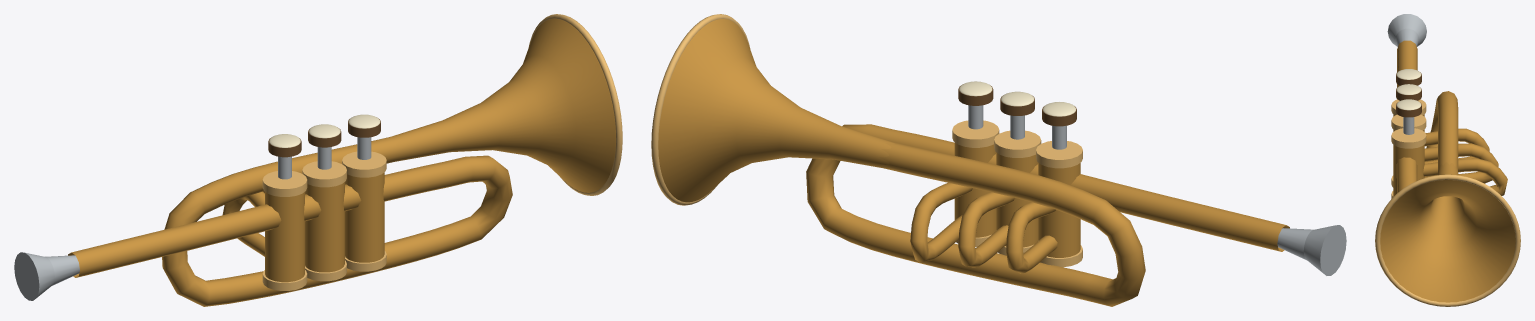
File: trumpet.glb
The picture shows the model from 3 angles, left to right: view 1: azimuth 30°, elevation 25°; view 2: azimuth 150°, elevation 25°; view 3: azimuth 270°, elevation 25°; orthographic projection. The views are drawn at different scales.
Parts seen in each view (by area): view 1: Trumpet; view 2: Trumpet; view 3: Trumpet.
Part boxes in pixels (x1,y1,x2,y2): Trumpet: (14,14,622,306); Trumpet: (651,14,1346,306); Trumpet: (1375,14,1520,306).
Bounding box in the file's own units: 3.34 × 1.05 × 0.934.
